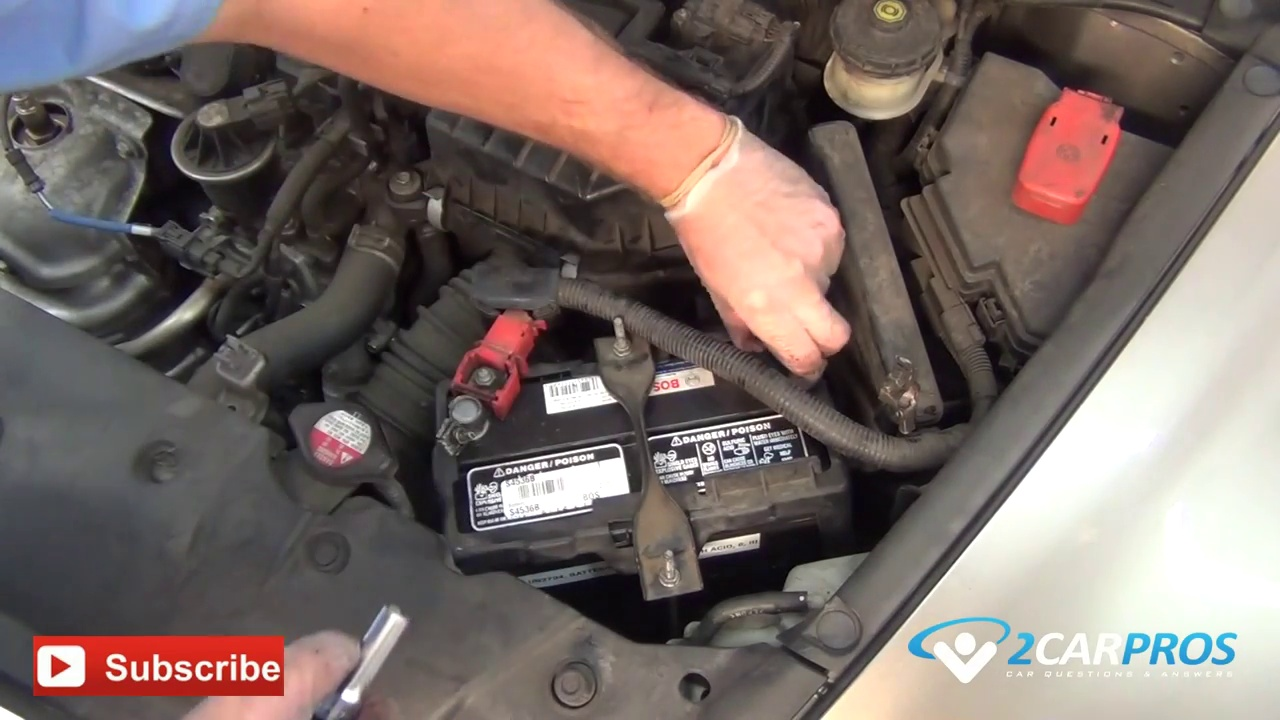battery: (438, 320, 796, 538)
pos_connected: (409, 286, 546, 452)
